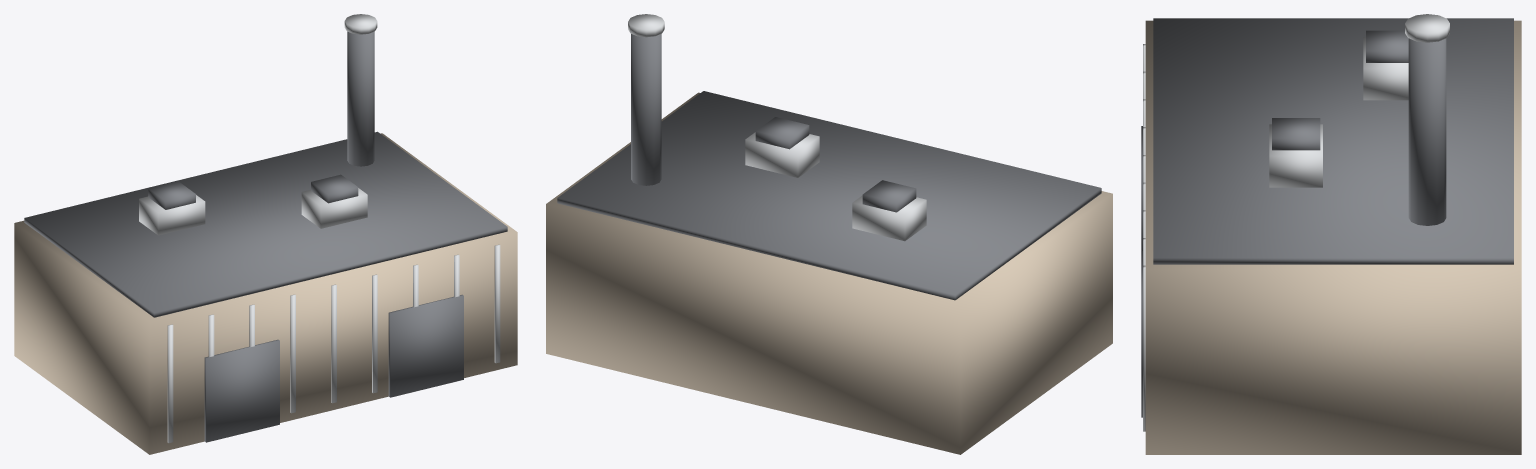
Rendered from ind-factory-b.glb.
3 views of the same model, side by side, from view 1: azimuth 30°, elevation 25°; view 2: azimuth 150°, elevation 25°; view 3: azimuth 270°, elevation 25° (orthographic). The views are drawn at different scales.
Parts seen in each view (by area): view 1: CC_IndFactoryB_Body, CC_IndFactoryB_Roof, CC_IndFactoryB_Door_0, CC_IndFactoryB_Door_1, CC_IndFactoryB_Ribs, CC_IndFactoryB_Stack, CC_IndFactoryB_HVAC_1, CC_IndFactoryB_HVAC_0, CC_IndFactoryB_Vent_0, CC_IndFactoryB_Vent_1, CC_IndFactoryB_StackCap; view 2: CC_IndFactoryB_Body, CC_IndFactoryB_Roof, CC_IndFactoryB_Stack, CC_IndFactoryB_HVAC_0, CC_IndFactoryB_HVAC_1, CC_IndFactoryB_Vent_0, CC_IndFactoryB_Vent_1, CC_IndFactoryB_StackCap; view 3: CC_IndFactoryB_Body, CC_IndFactoryB_Roof, CC_IndFactoryB_Stack, CC_IndFactoryB_HVAC_1, CC_IndFactoryB_HVAC_0, CC_IndFactoryB_Vent_1, CC_IndFactoryB_Vent_0, CC_IndFactoryB_Ribs, CC_IndFactoryB_StackCap.
Boxes of the visible parts, x1=… form: CC_IndFactoryB_Body: x1=14, y1=133, x2=517, y2=454; CC_IndFactoryB_Roof: x1=24, y1=131, x2=507, y2=317; CC_IndFactoryB_Door_0: x1=204, y1=339, x2=279, y2=442; CC_IndFactoryB_Door_1: x1=388, y1=294, x2=463, y2=397; CC_IndFactoryB_Ribs: x1=167, y1=244, x2=500, y2=443; CC_IndFactoryB_Stack: x1=347, y1=31, x2=374, y2=166; CC_IndFactoryB_HVAC_1: x1=301, y1=188, x2=367, y2=228; CC_IndFactoryB_HVAC_0: x1=139, y1=195, x2=205, y2=235; CC_IndFactoryB_Vent_0: x1=148, y1=181, x2=195, y2=209; CC_IndFactoryB_Vent_1: x1=311, y1=174, x2=358, y2=203; CC_IndFactoryB_StackCap: x1=344, y1=14, x2=377, y2=34; CC_IndFactoryB_Body: x1=546, y1=92, x2=1112, y2=454; CC_IndFactoryB_Roof: x1=557, y1=91, x2=1101, y2=300; CC_IndFactoryB_Stack: x1=631, y1=34, x2=661, y2=185; CC_IndFactoryB_HVAC_0: x1=852, y1=195, x2=926, y2=241; CC_IndFactoryB_HVAC_1: x1=745, y1=132, x2=819, y2=177; CC_IndFactoryB_Vent_0: x1=862, y1=180, x2=916, y2=212; CC_IndFactoryB_Vent_1: x1=755, y1=117, x2=809, y2=149; CC_IndFactoryB_StackCap: x1=628, y1=14, x2=664, y2=37; CC_IndFactoryB_Body: x1=1145, y1=20, x2=1521, y2=454; CC_IndFactoryB_Roof: x1=1153, y1=18, x2=1513, y2=264; CC_IndFactoryB_Stack: x1=1408, y1=38, x2=1446, y2=225; CC_IndFactoryB_HVAC_1: x1=1269, y1=124, x2=1322, y2=187; CC_IndFactoryB_HVAC_0: x1=1363, y1=37, x2=1408, y2=100; CC_IndFactoryB_Vent_1: x1=1272, y1=118, x2=1320, y2=150; CC_IndFactoryB_Vent_0: x1=1366, y1=30, x2=1408, y2=62; CC_IndFactoryB_Ribs: x1=1143, y1=44, x2=1145, y2=431; CC_IndFactoryB_StackCap: x1=1405, y1=14, x2=1449, y2=42.
Bounding box in the file's own units: 11 × 8.1 × 7.08.
